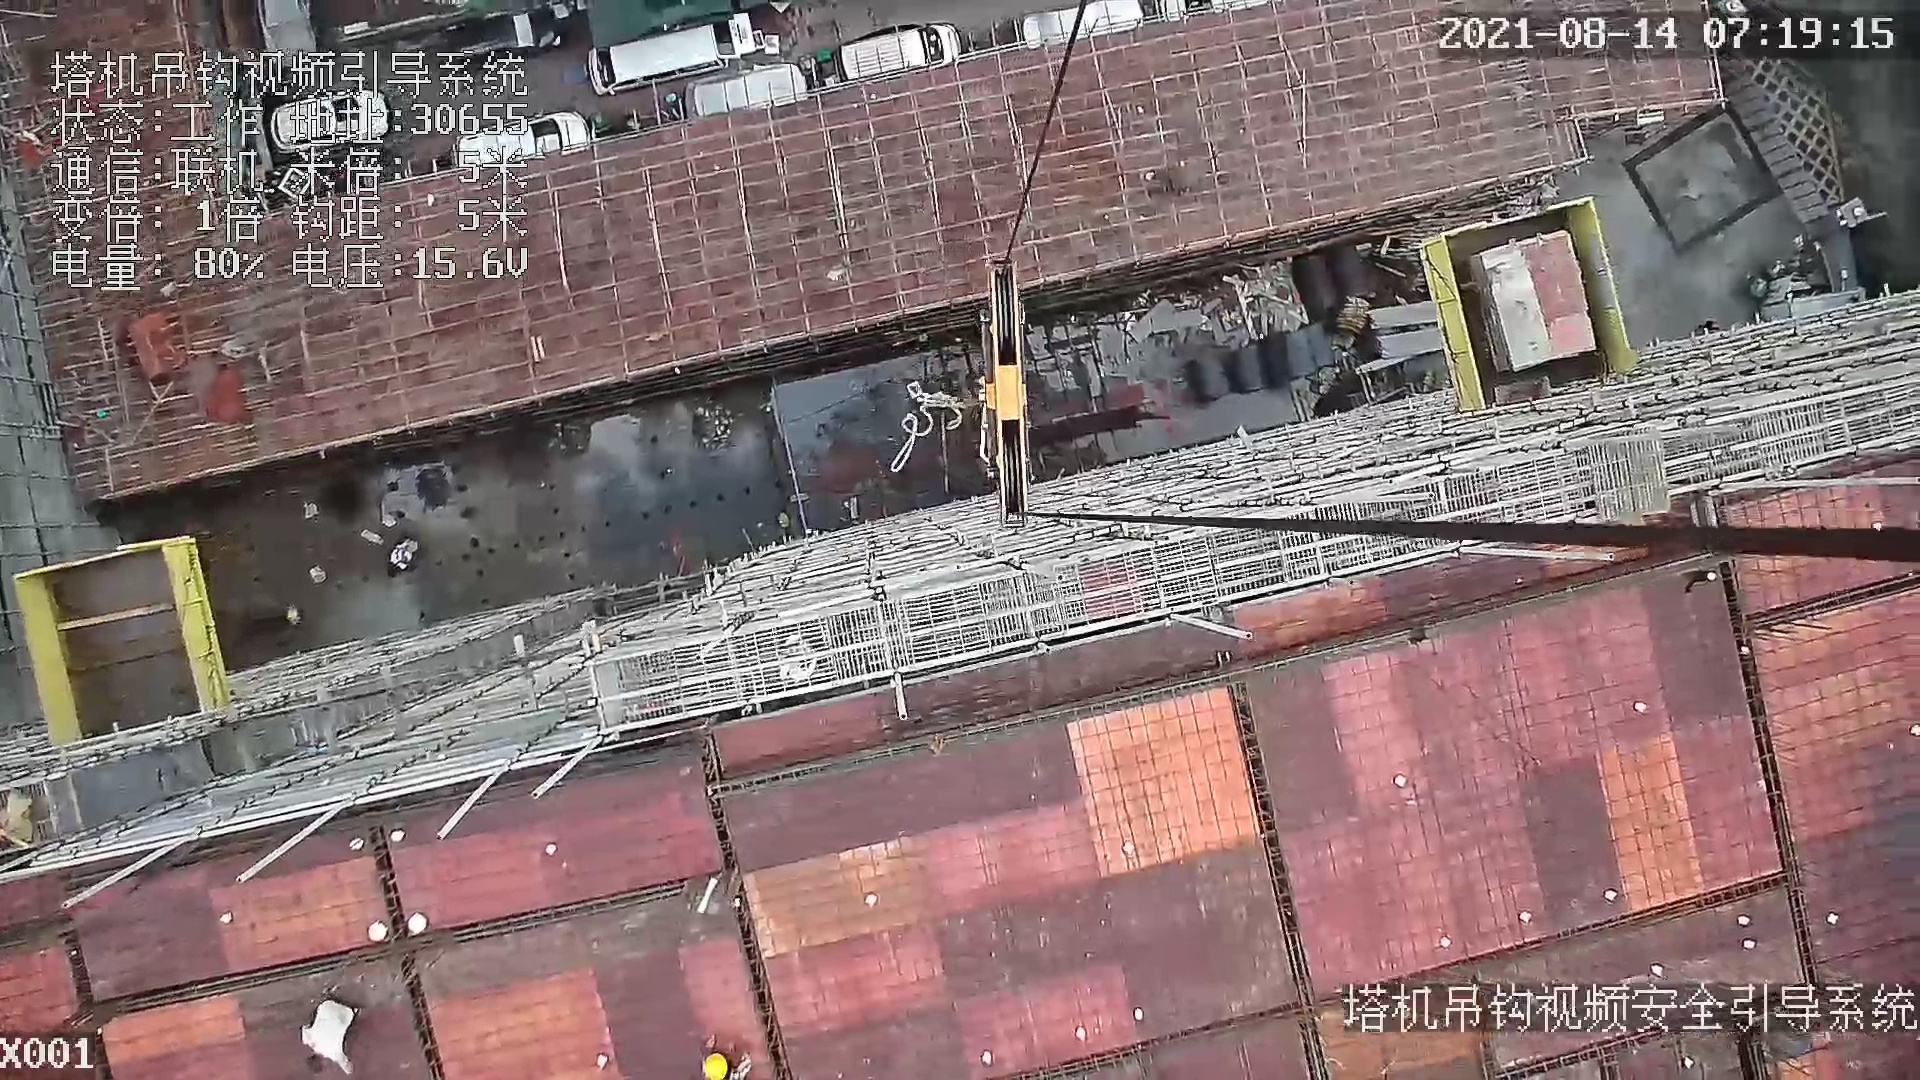helmet: (691, 1049, 729, 1080)
hook: (969, 255, 1037, 522)
person: (303, 1003, 358, 1080)
